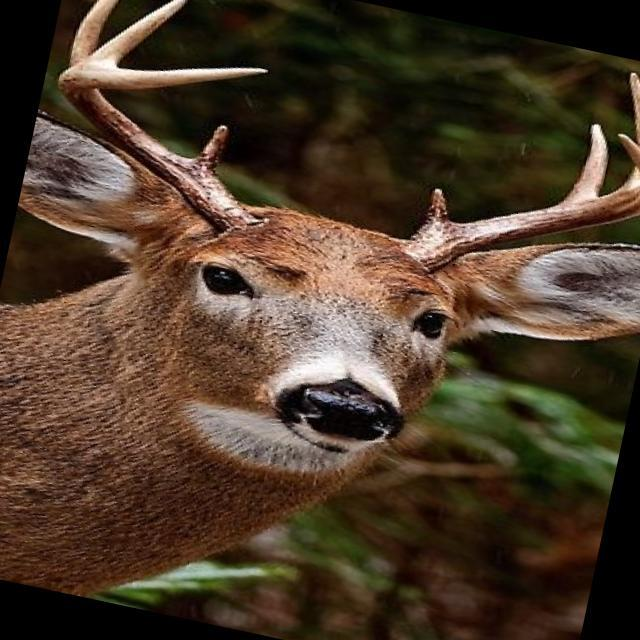L-F: (396, 184, 640, 272)
L-G1: (417, 187, 453, 231)
L-G2: (553, 122, 610, 206)
R-F: (57, 62, 269, 234)
R-G1: (190, 123, 229, 177)
R-G2: (65, 0, 122, 66)
R-G3: (84, 0, 190, 67)
